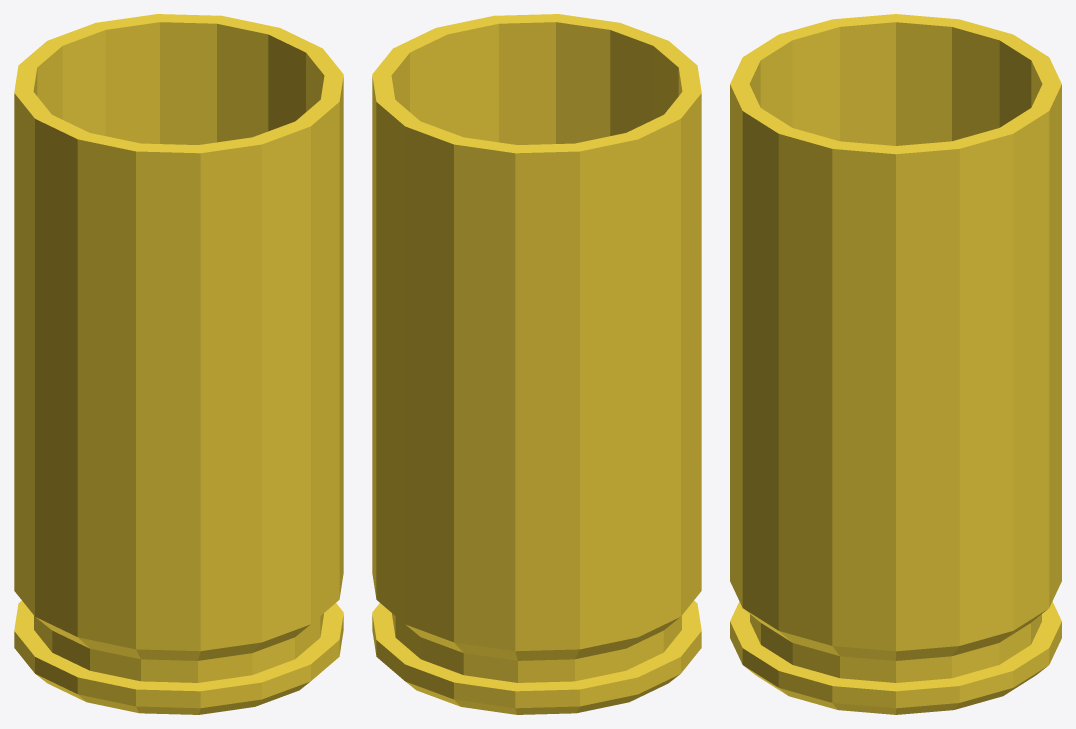
File: bullet_casing.glb
3 renders of one model, left to right at view 1: azimuth 30°, elevation 25°; view 2: azimuth 150°, elevation 25°; view 3: azimuth 270°, elevation 25°, orthographic.
Visible parts, largest first — view 1: Cylinder; view 2: Cylinder; view 3: Cylinder.
Part boxes in pixels (left/top/right/bottom): Cylinder: left=14, top=14, right=343, bottom=714; Cylinder: left=372, top=14, right=701, bottom=714; Cylinder: left=730, top=14, right=1061, bottom=714.
Bounding box in the file's own units: 0.1202 × 0.2266 × 0.1202.
